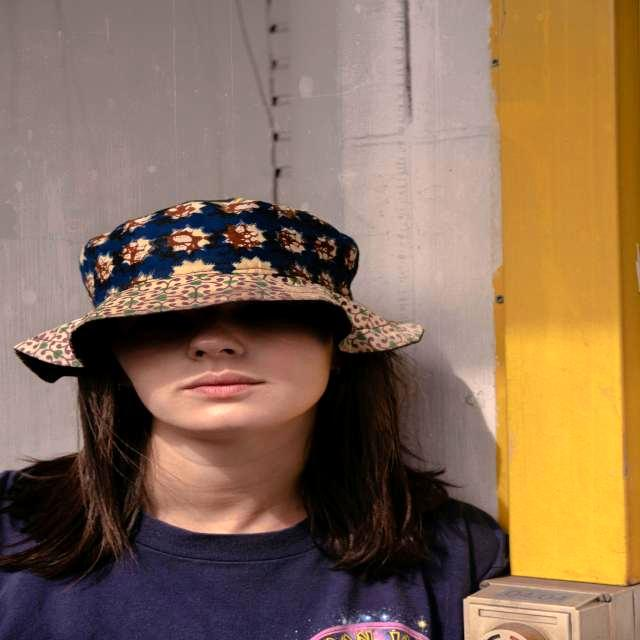no_hard_hat: (14, 198, 424, 382)
person: (1, 275, 505, 640)
